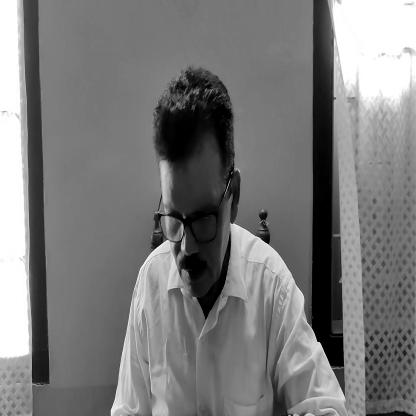Distracted: (153, 80, 243, 302)
